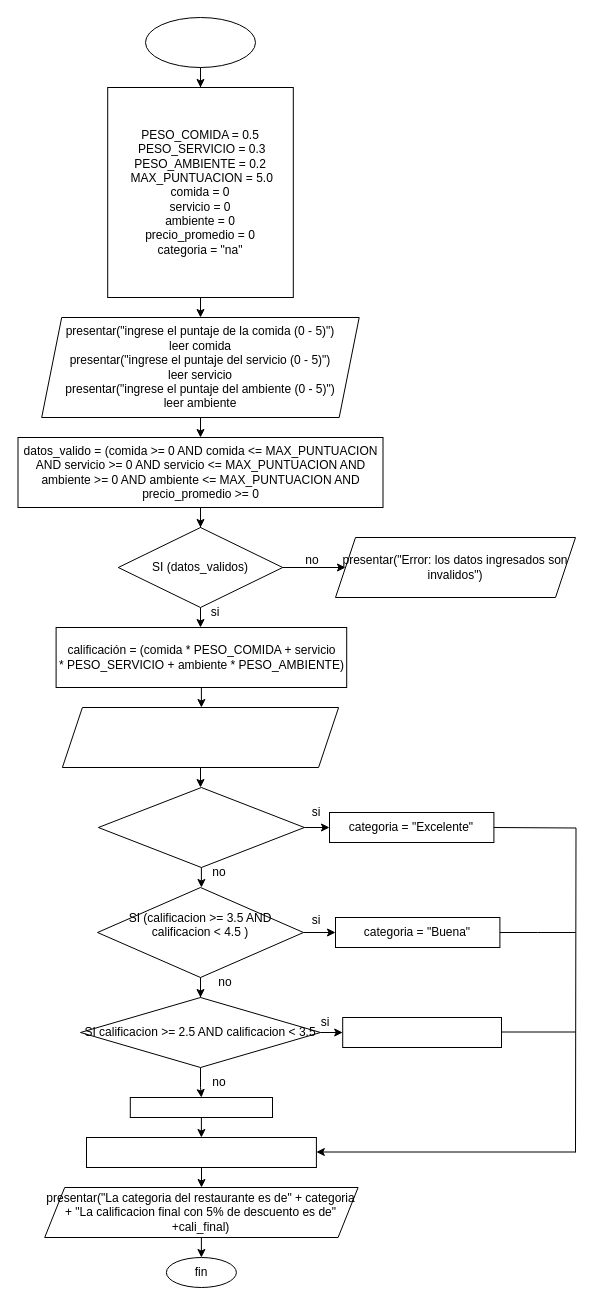
This 601x1305 diagram has some shape labels left out. Here are the shapes that lost their labels. From the top down, the box of each, then its label:
(144, 16, 256, 68): inicio
(61, 706, 339, 768): presentar("la calificacion es de" + calificacion)
(97, 786, 304, 868): SI (calificacion >= 4.5)
(342, 1016, 502, 1048): categoria = "suficiente"
(129, 1096, 272, 1118): categoria = "Deficiente"
(86, 1136, 316, 1168): descuento5 = (calificación * 0.05) cali_final = calificación – descuento5
